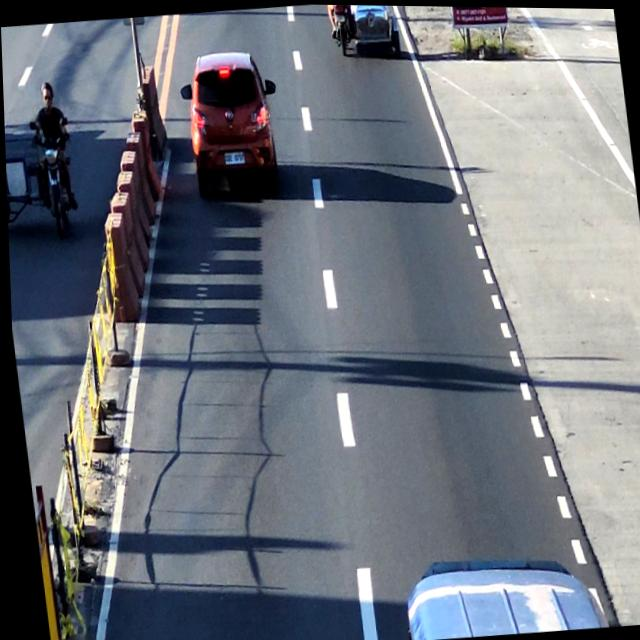Car: (183, 50, 284, 199)
Jeep: (393, 547, 597, 640)
License-Plate: (221, 148, 244, 163)
Tricycle: (327, 4, 399, 60)
